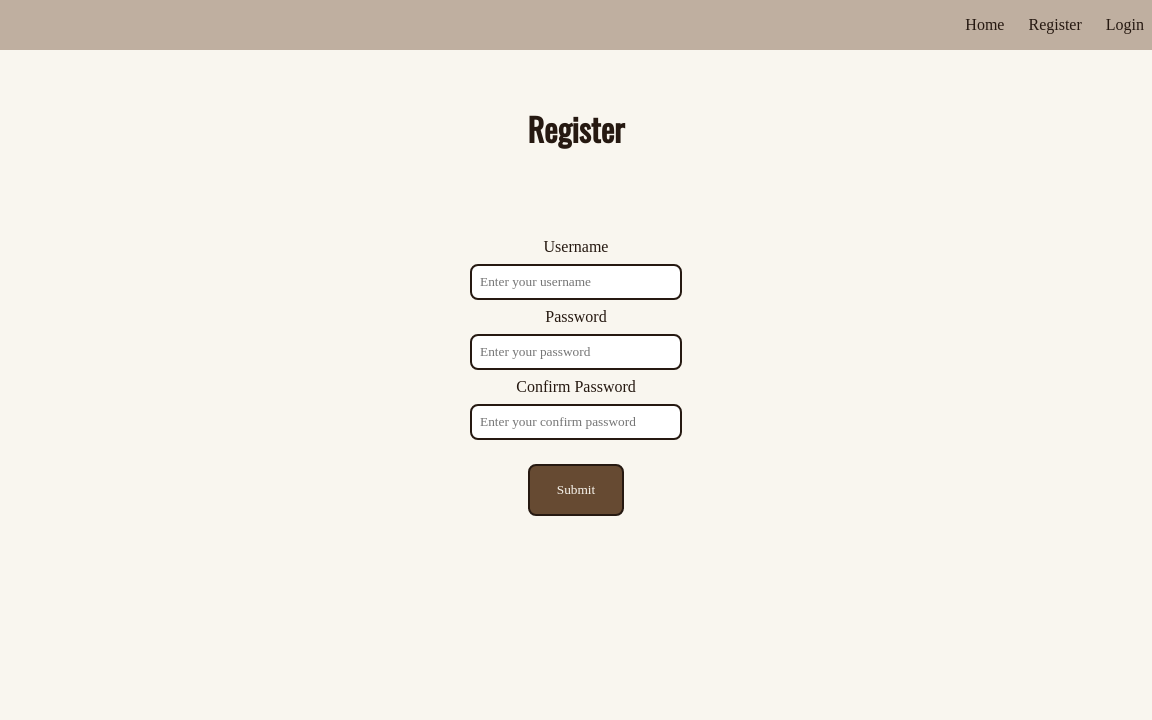
Test: Register page › Successfully redirects a user when provided with valid registration info
In the field with test id "Username": (576, 282) [470,264,682,300], type "username here"
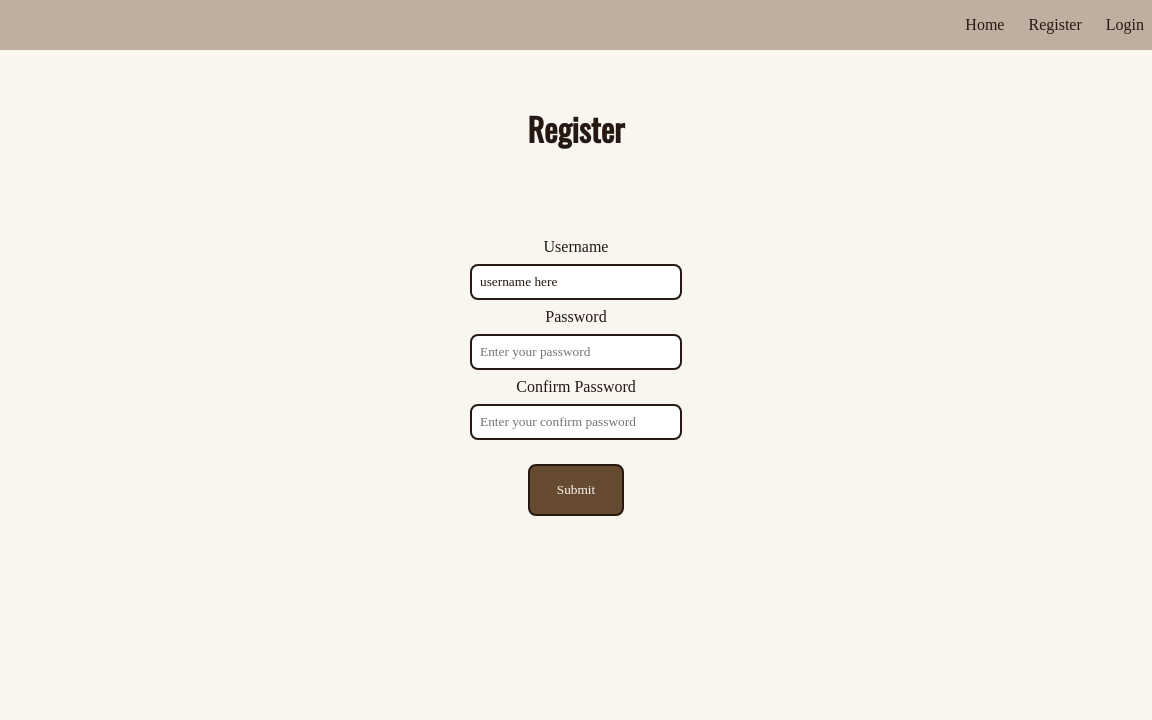
In the password field with test id "Password": (576, 352) [470,334,682,370], type "password"
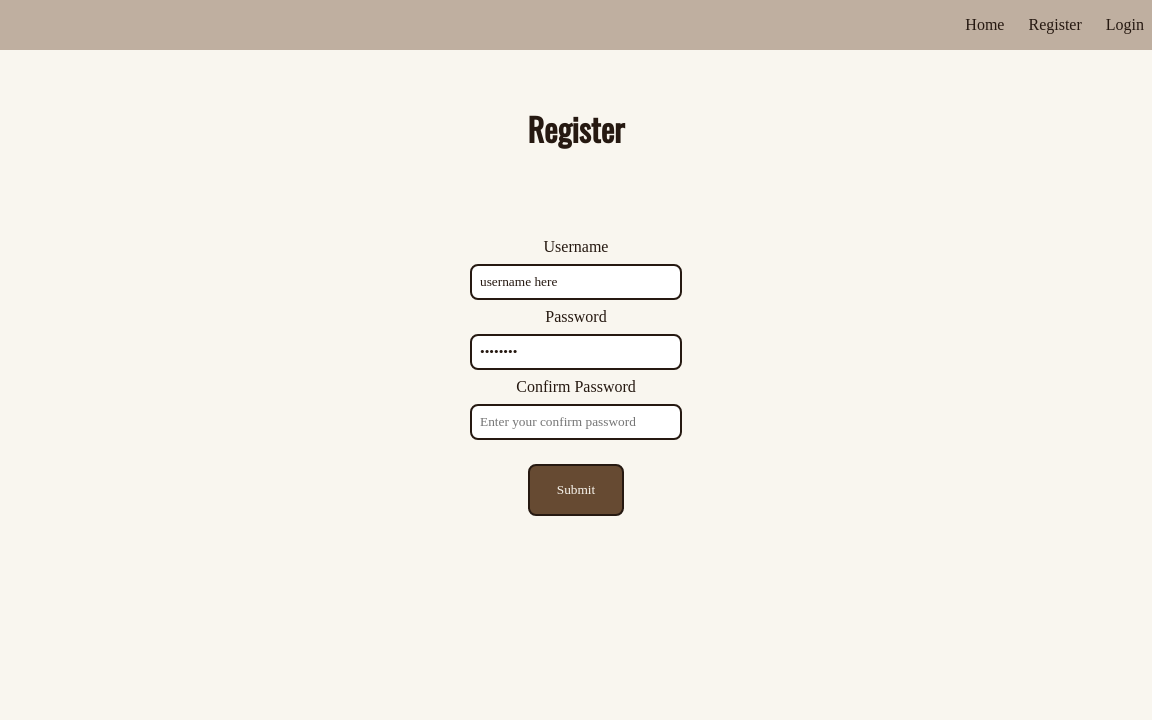
In the password field with test id "Confirm Password": (576, 422) [470,404,682,440], type "password"
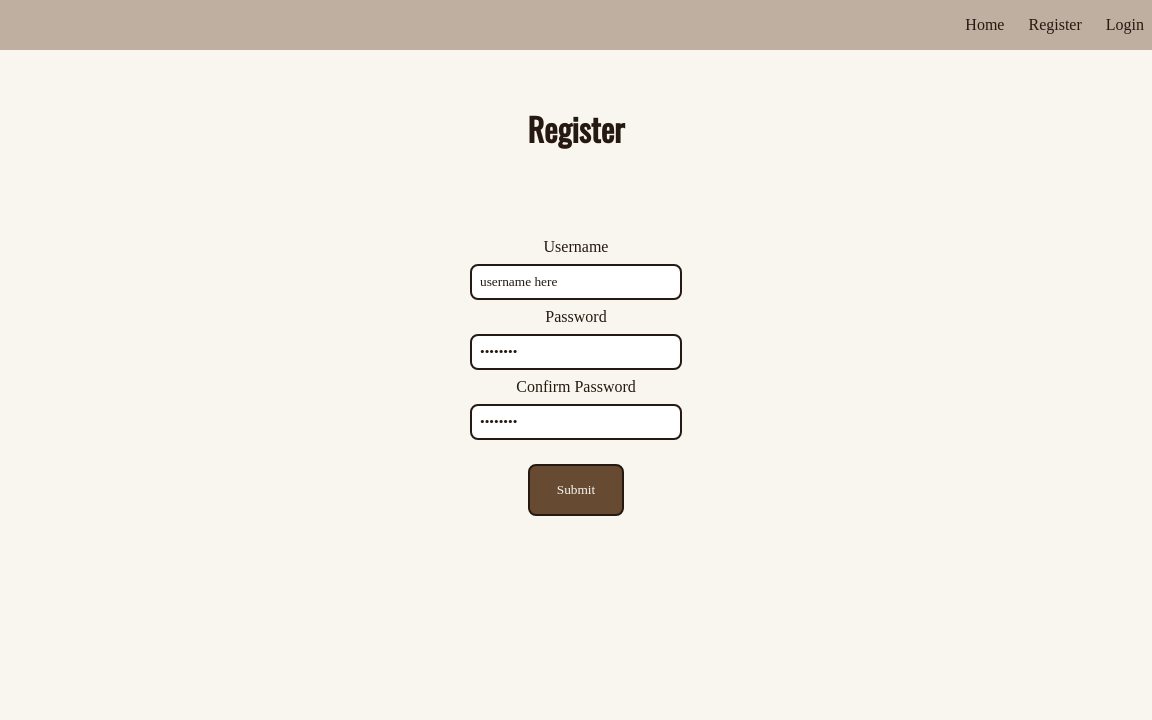
Click the button "Submit": (576, 490) [528,464,624,516]
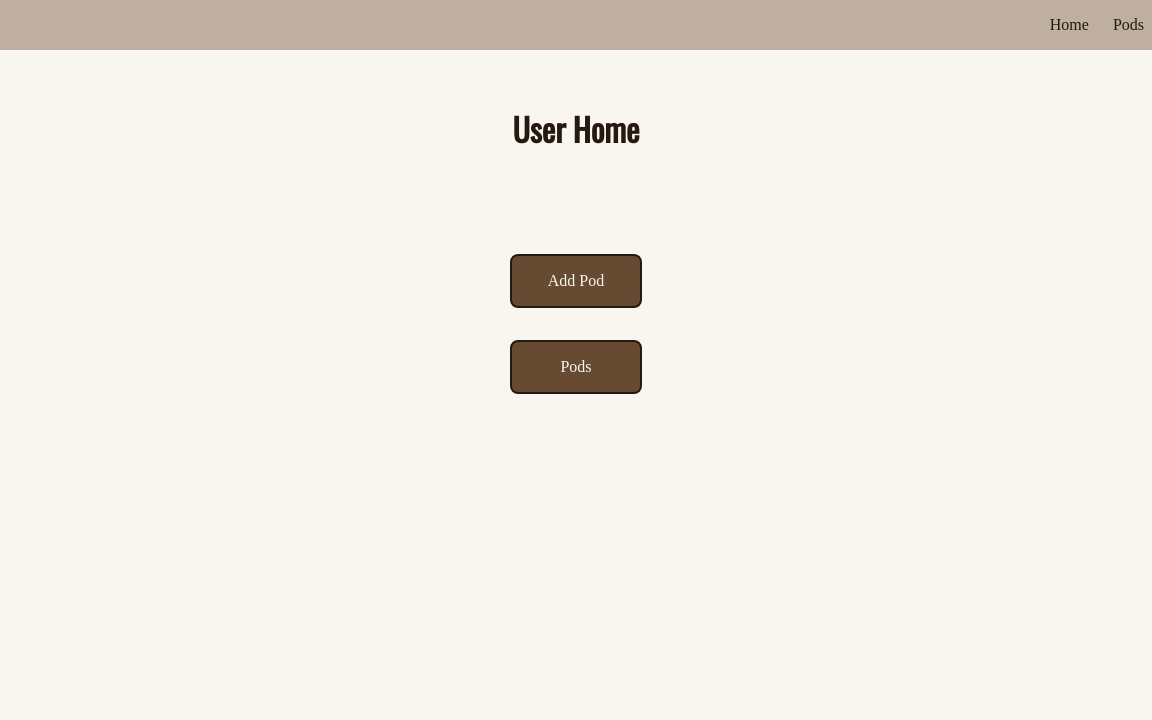
Result: the heading "User Home" is shown at [512,105,640,152]
